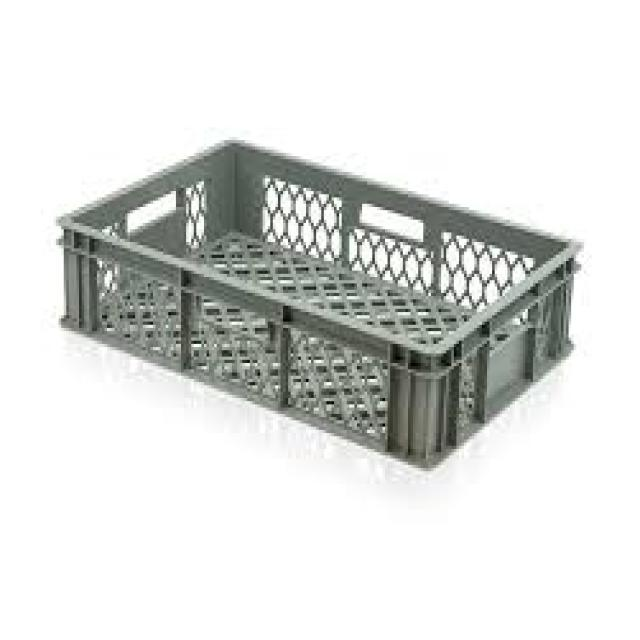basket: (22, 98, 602, 496)
